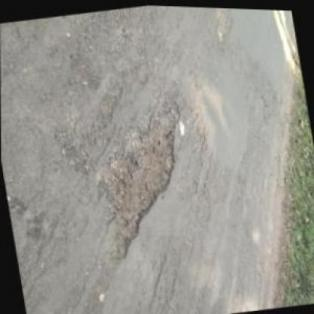Hueco: (78, 92, 203, 268)
